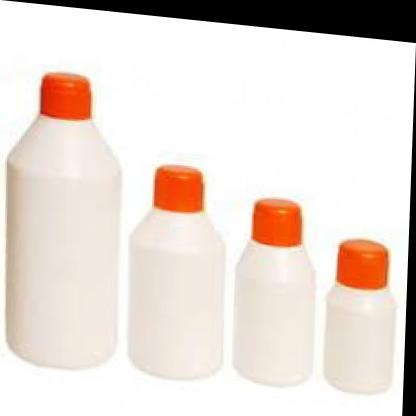trash: (6, 73, 120, 367), (129, 165, 224, 377), (234, 198, 314, 384), (324, 239, 394, 391)
